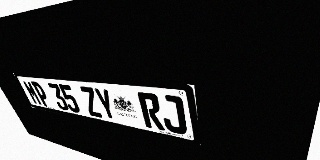3: (47, 83, 70, 111)
5: (58, 84, 82, 114)
J: (158, 94, 188, 135)
M: (22, 80, 43, 106)
P: (30, 81, 52, 108)
R: (137, 92, 165, 131)
Y: (93, 87, 119, 121)
Z: (78, 86, 104, 118)
